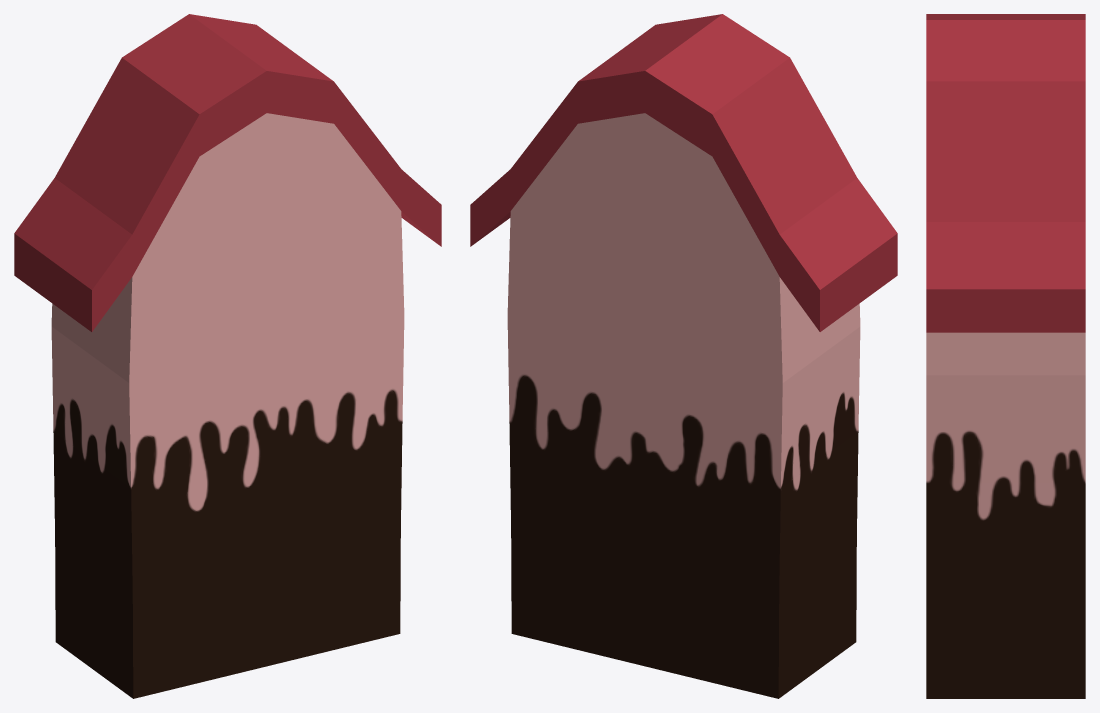
File: Casa.FBX
3 views of the same model, side by side, from view 1: azimuth 30°, elevation 25°; view 2: azimuth 150°, elevation 25°; view 3: azimuth 270°, elevation 25° (orthographic). The views are drawn at different scales.
Visible parts, largest first — view 1: Casa; view 2: Casa; view 3: Casa.
Boxes of the visible parts, x1,y1,x2,y2 form: Casa: (14,14,441,698); Casa: (470,14,897,698); Casa: (926,14,1085,698).
Bounding box in the file's own units: 4.96 × 8.07 × 1.91.
